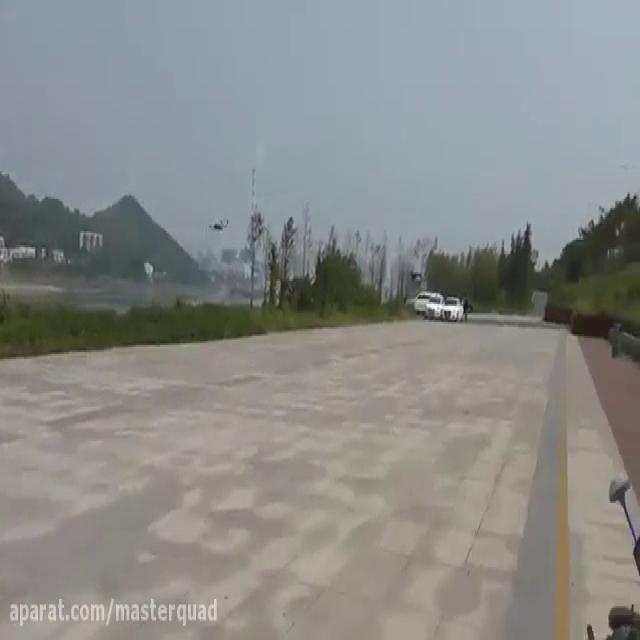drone: (207, 211, 231, 233)
